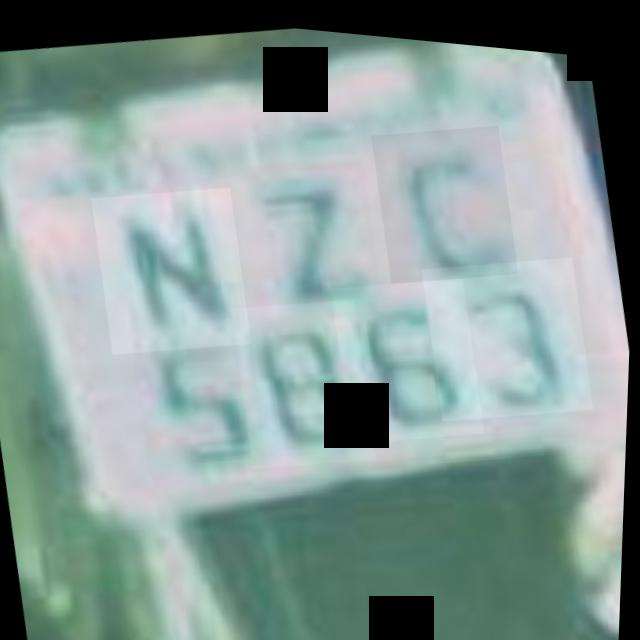3: (419, 234, 600, 423)
5: (129, 321, 276, 486)
6: (328, 258, 491, 446)
8: (228, 282, 383, 473)
C: (367, 105, 524, 285)
N: (88, 171, 258, 362)
Z: (220, 139, 387, 313)
